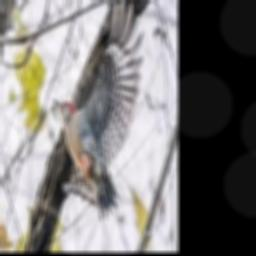Woodpecker: (53, 0, 142, 219)
